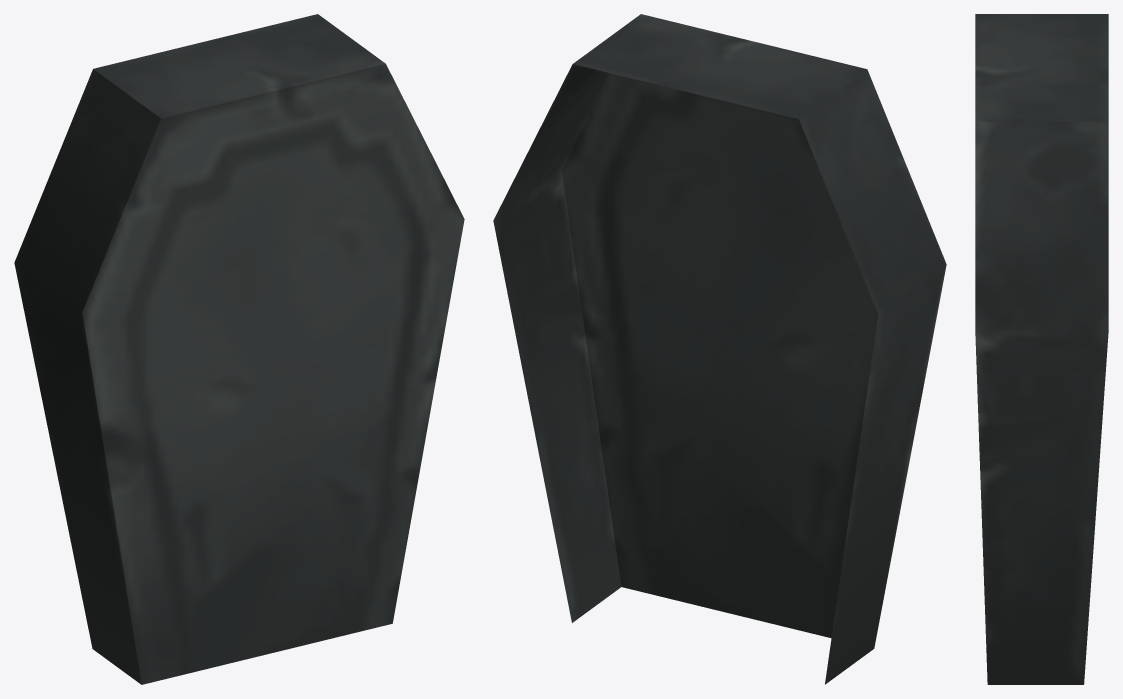
File: yw_shanlin_tombstone_21.FBX
The picture shows the model from 3 angles, left to right: view 1: azimuth 30°, elevation 25°; view 2: azimuth 150°, elevation 25°; view 3: azimuth 270°, elevation 25°; orthographic projection. The views are drawn at different scales.
Parts seen in each view (by area): view 1: yw_shanlin_tombstone_21; view 2: yw_shanlin_tombstone_21; view 3: yw_shanlin_tombstone_21.
Boxes of the visible parts, x1,y1,x2,y2 form: yw_shanlin_tombstone_21: [14, 14, 464, 684]; yw_shanlin_tombstone_21: [493, 14, 946, 684]; yw_shanlin_tombstone_21: [975, 14, 1108, 684].
Size of the model in its own units: 37.84 by 53.7 by 11.65.
